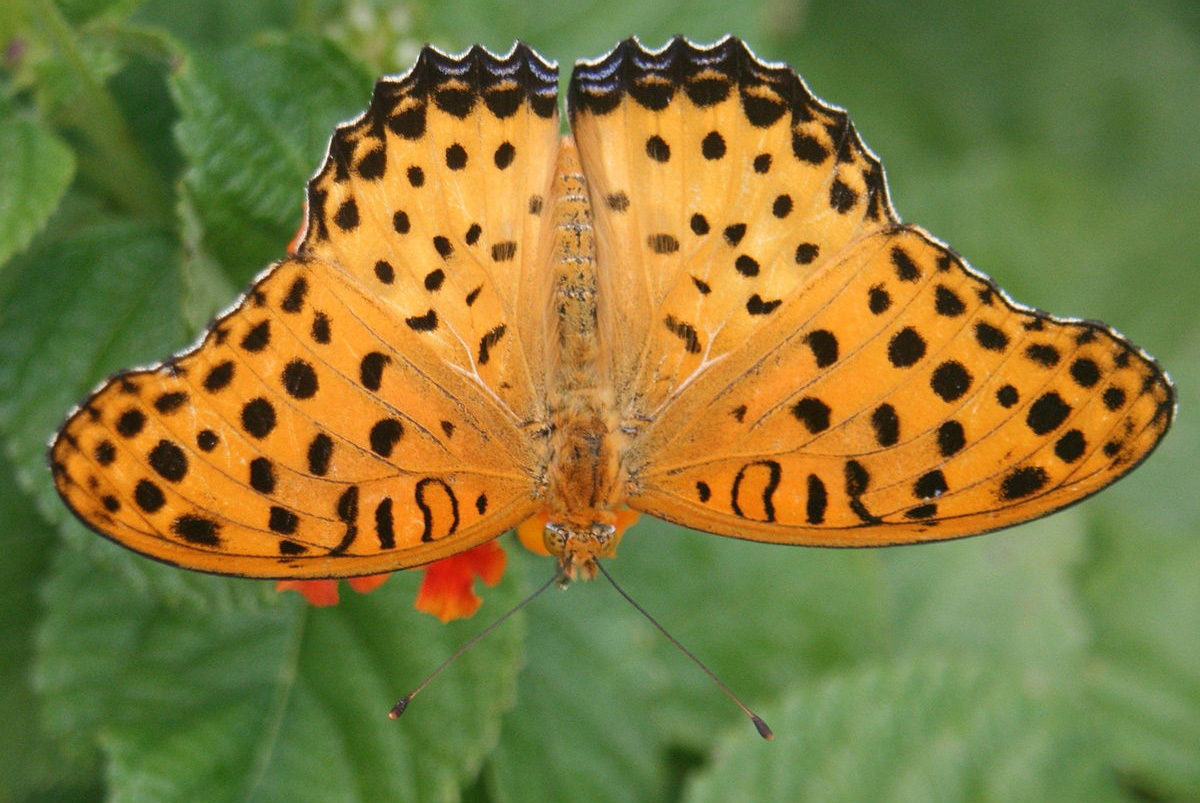Argyreus hyperbius: (47, 24, 1190, 753)
butterfly: (45, 22, 1188, 751)
